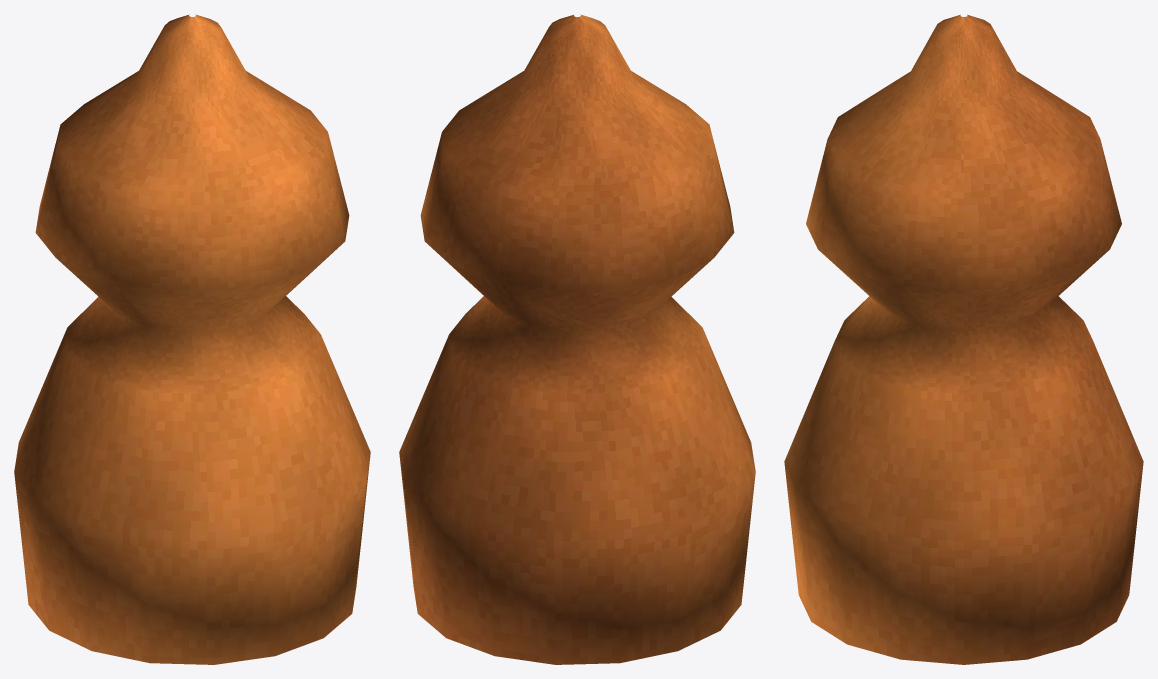
The model's file is alambique_artesanal.glb.
3 views of the same model, side by side, from view 1: azimuth 30°, elevation 25°; view 2: azimuth 150°, elevation 25°; view 3: azimuth 270°, elevation 25° (orthographic).
Parts seen in each view (by area): view 1: alambique_artesanal; view 2: alambique_artesanal; view 3: alambique_artesanal.
Part boxes in pixels (x1,y1,x2,y2): alambique_artesanal: (14,14,370,664); alambique_artesanal: (399,14,755,664); alambique_artesanal: (784,14,1143,664).
Size of the model in its own units: 1 by 1.82 by 1.
1 material, 1 textured.
